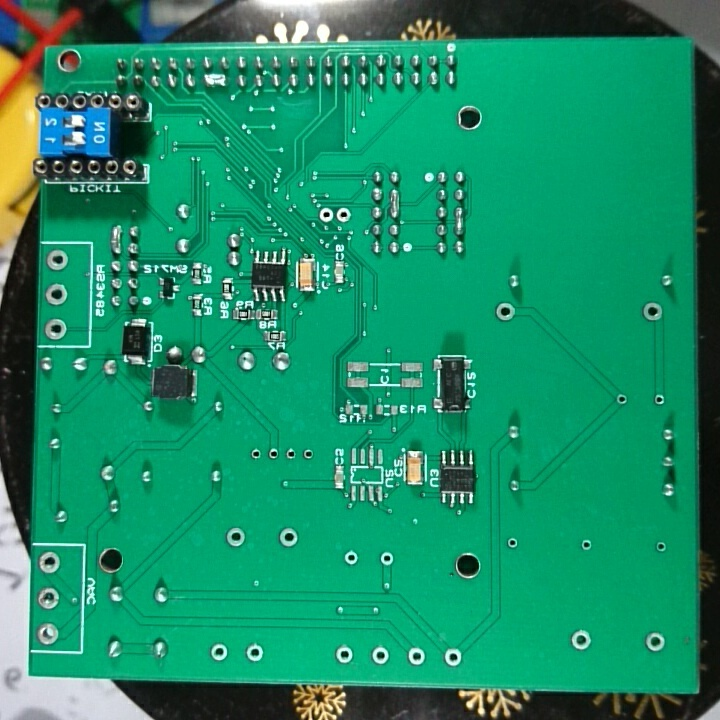F: (44, 281, 70, 311), (42, 318, 71, 344), (491, 298, 519, 324), (35, 586, 63, 612), (570, 626, 595, 654), (644, 630, 670, 656), (276, 524, 302, 550), (37, 549, 62, 575), (225, 525, 249, 552), (35, 622, 60, 647), (641, 298, 664, 325), (45, 248, 71, 271), (208, 640, 230, 665), (443, 646, 464, 670), (372, 643, 391, 669), (407, 643, 426, 668), (335, 643, 355, 666), (245, 643, 266, 663), (343, 549, 363, 569), (334, 206, 354, 226), (317, 206, 336, 227), (580, 537, 597, 555), (378, 550, 396, 567), (652, 540, 671, 556), (300, 446, 317, 463), (264, 447, 282, 463), (614, 389, 628, 408), (282, 447, 298, 463), (652, 392, 667, 409), (506, 535, 520, 552), (249, 446, 263, 463)
P: (108, 223, 126, 255), (388, 186, 404, 220), (201, 72, 231, 89), (453, 204, 468, 236)
